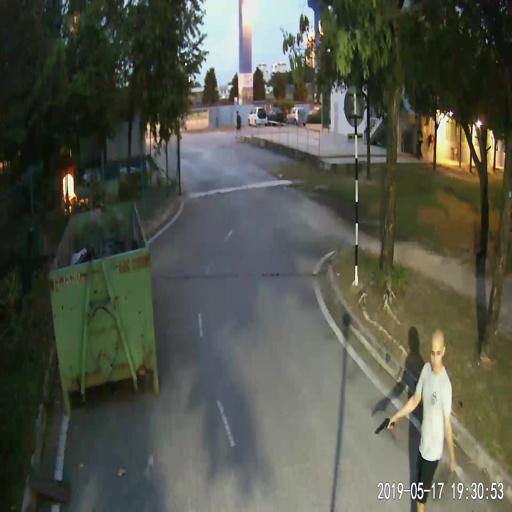pistol: (375, 417, 394, 435)
